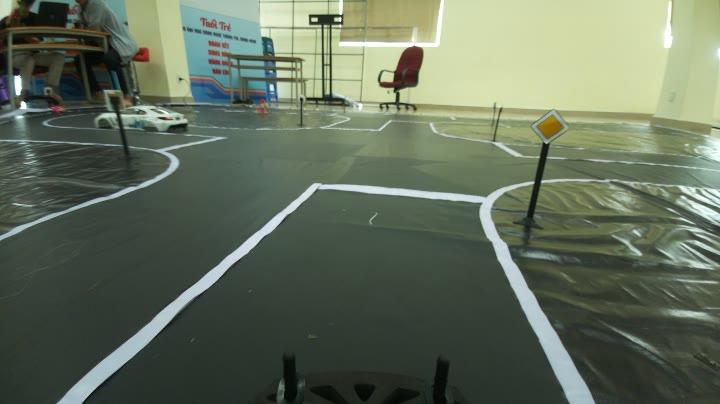priority: (522, 110, 578, 150)
